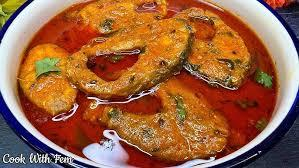Fish Curry: (20, 5, 264, 153)
